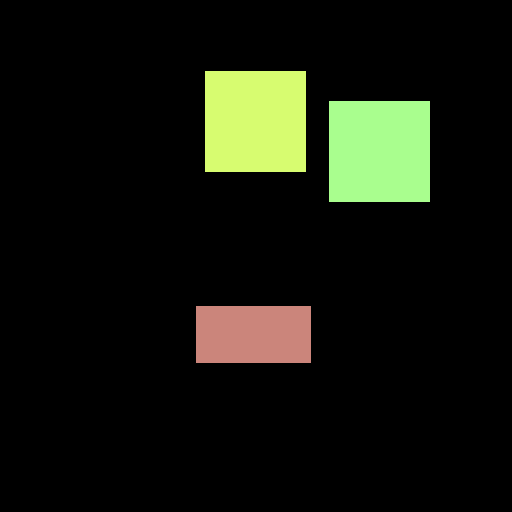rectangle: (196, 306, 310, 362)
square: (329, 101, 429, 201), (205, 71, 305, 171)
